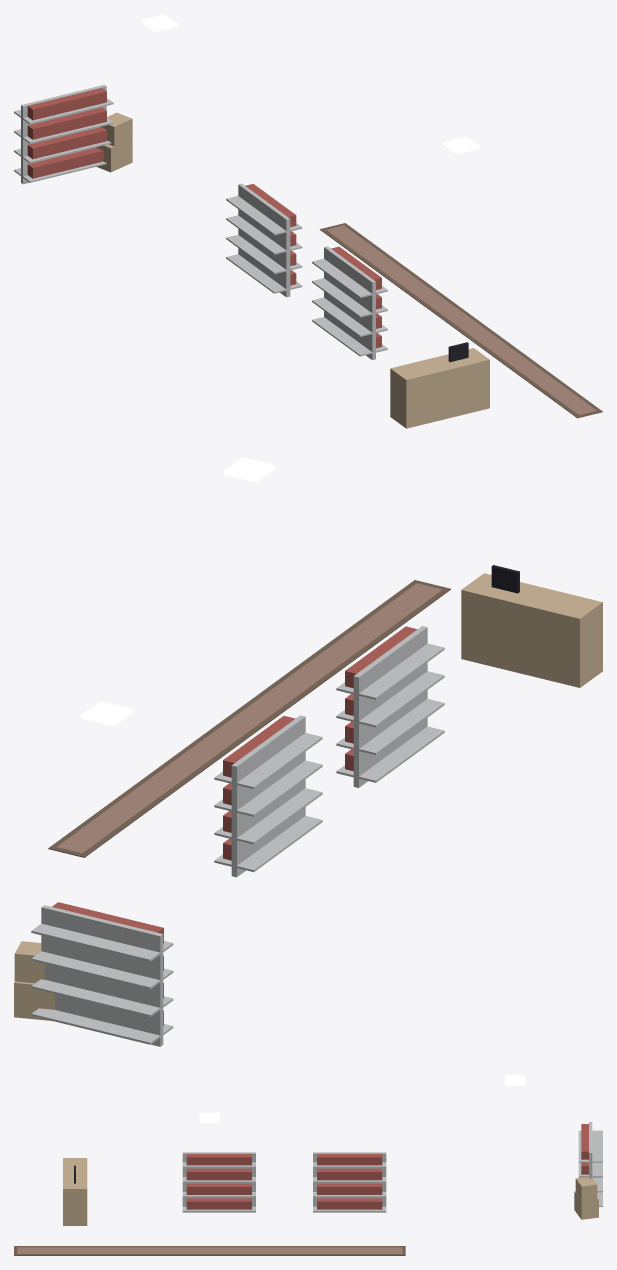
The model's file is fine-s0.glb.
3 views of the same model, one above another, from view 1: azimuth 30°, elevation 25°; view 2: azimuth 150°, elevation 25°; view 3: azimuth 270°, elevation 25° (orthographic). The views are drawn at different scales.
Visible parts, largest first — view 1: shelving.000, soft-s0, shop-counter.000, shelf.000, shelf.001, cardboard-box.000; view 2: shelving.000, soft-s0, shop-counter.000, shelf.000, shelf.001, cardboard-box.000, ceiling-lamp.001, ceiling-lamp.000; view 3: shelf.000, shelf.001, soft-s0, shop-counter.000, shelving.000, cardboard-box.000.
Part boxes in pixels (box(x1,y1,x2,y2)): shelving.000: box(14, 84, 113, 184); soft-s0: box(320, 223, 602, 418); shop-counter.000: box(390, 342, 489, 428); shelf.000: box(226, 183, 302, 297); shelf.001: box(312, 246, 387, 360); cardboard-box.000: box(96, 112, 132, 172); shelving.000: box(31, 902, 173, 1046); soft-s0: box(48, 580, 450, 857); shop-counter.000: box(461, 565, 602, 687); shelf.000: box(214, 715, 322, 877); shelf.001: box(336, 626, 444, 787); cardboard-box.000: box(14, 941, 55, 1020); ceiling-lamp.001: box(81, 701, 133, 726); ceiling-lamp.000: box(223, 457, 275, 482); shelf.000: box(313, 1152, 386, 1212); shelf.001: box(182, 1152, 255, 1212); soft-s0: box(14, 1246, 405, 1255); shop-counter.000: box(63, 1158, 87, 1225); shelving.000: box(578, 1122, 602, 1206); cardboard-box.000: box(574, 1177, 598, 1219).
Bounding box in the file's own units: 4.34 × 3.64 × 14.45.
